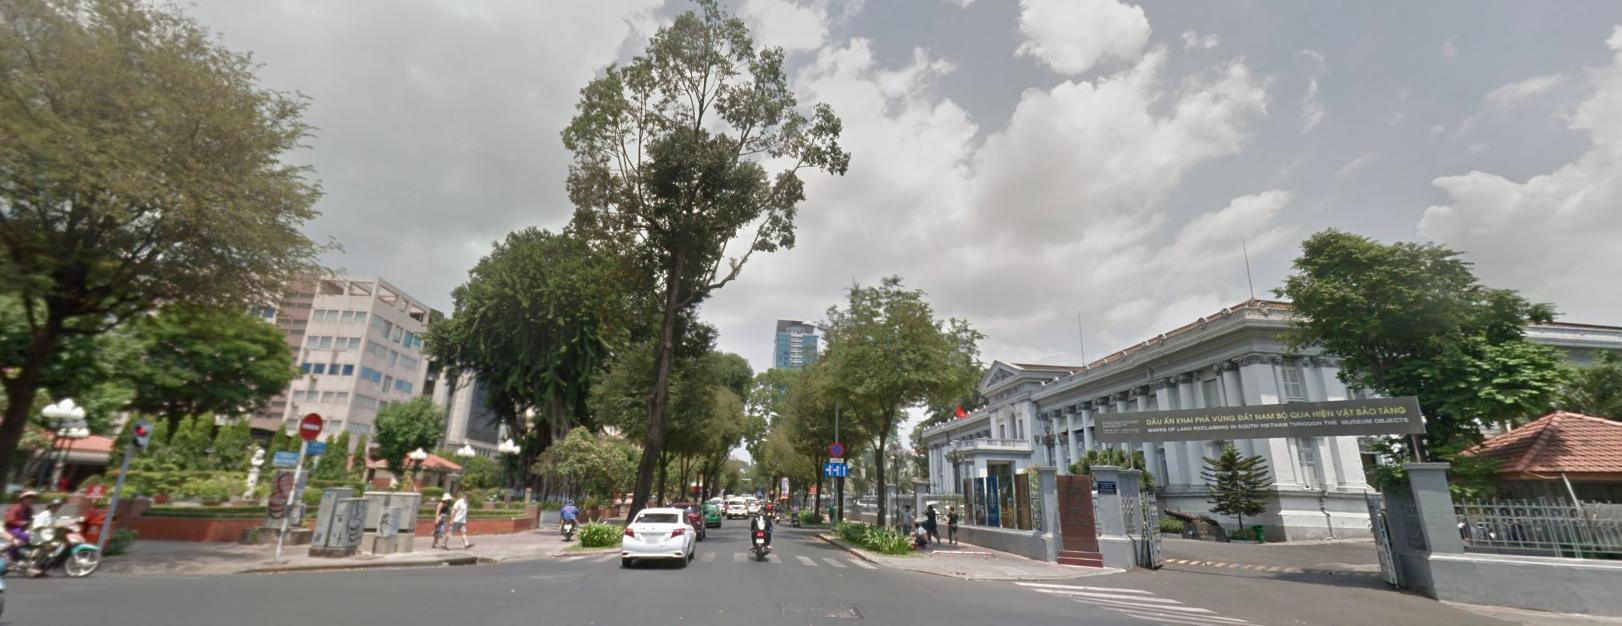Cam dung va do: (828, 440, 845, 456)
Cam nguoc chieu: (296, 408, 324, 441)
